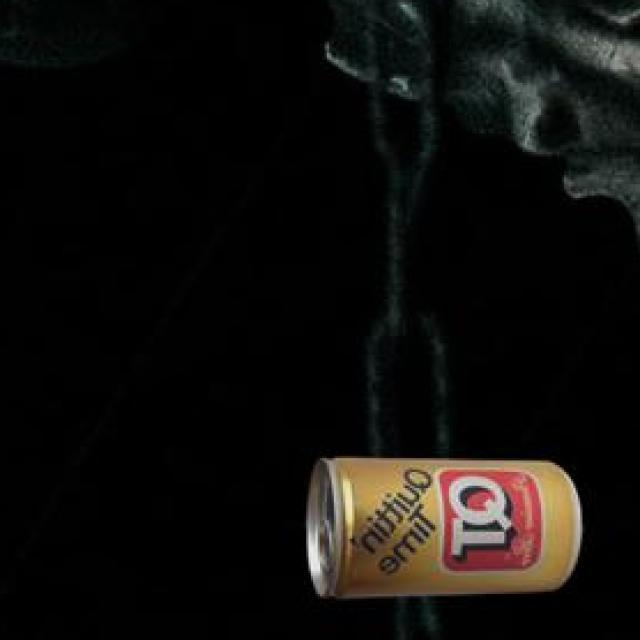logam: (305, 462, 577, 602)
